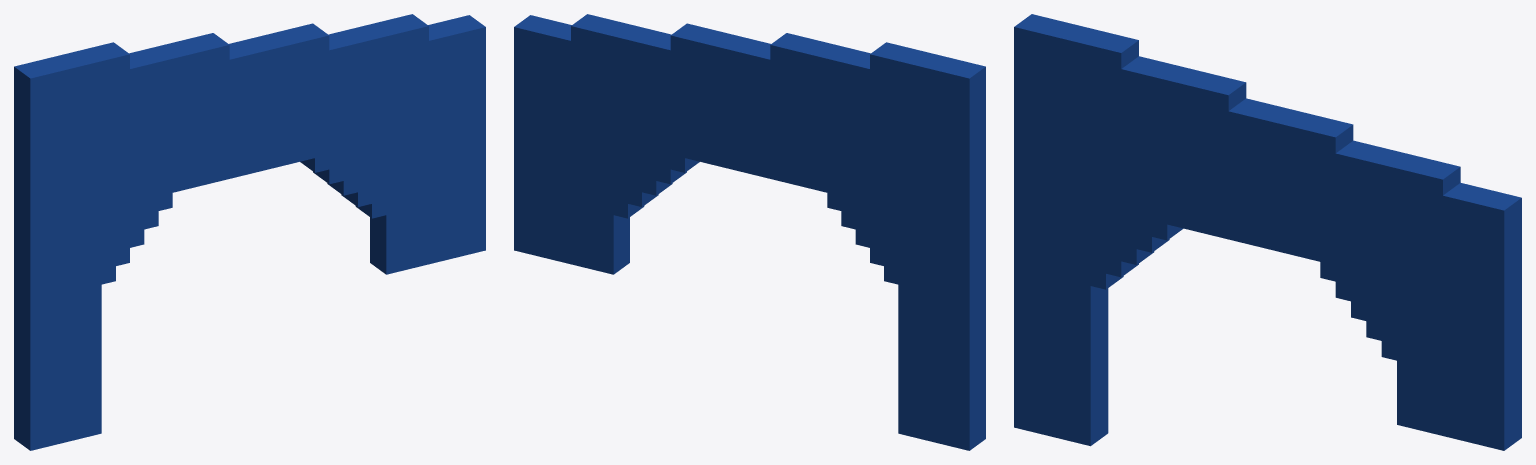
File: city_car_front_wing.glb
3 renders of one model, left to right at view 1: azimuth 30°, elevation 25°; view 2: azimuth 150°, elevation 25°; view 3: azimuth 330°, elevation 25°, orthographic. The views are drawn at different scales.
Visible parts, largest first — view 1: body:compound; view 2: body:compound; view 3: body:compound.
Boxes of the visible parts, x1,y1,x2,y2 form: body:compound: (14,14,485,450); body:compound: (514,14,985,450); body:compound: (1014,14,1521,450).
Bounding box in the file's own units: 1 × 0.7812 × 0.0625.
